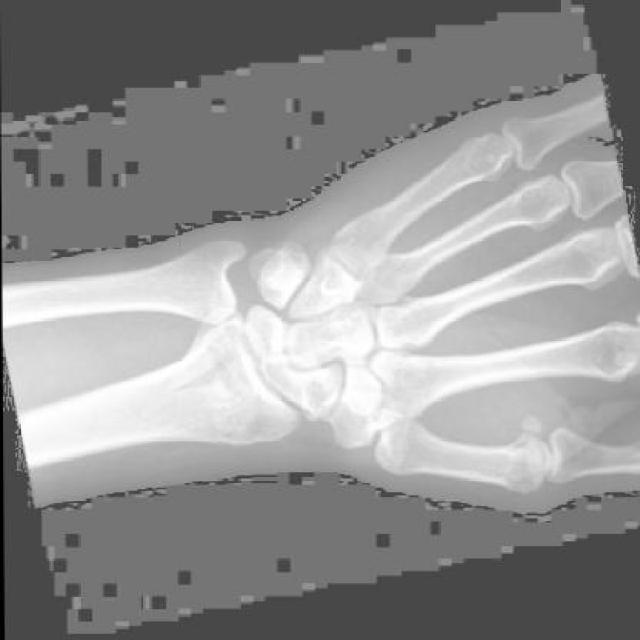Fracture: (175, 337, 273, 456)
